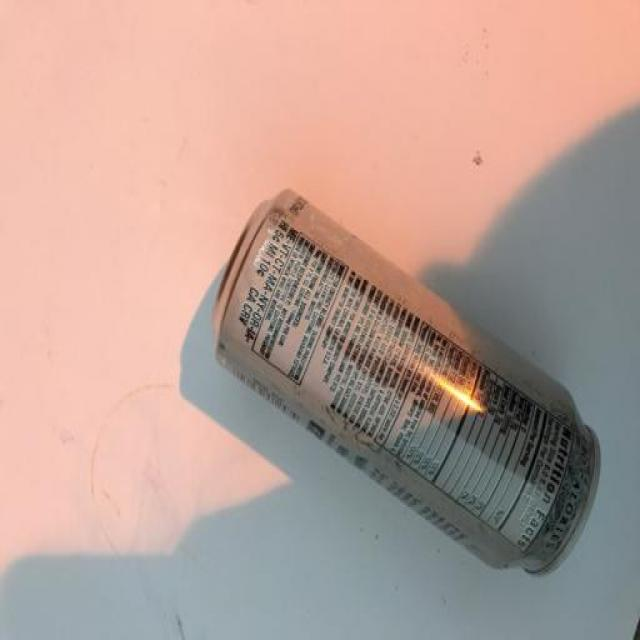metal-can: (210, 187, 604, 583)
